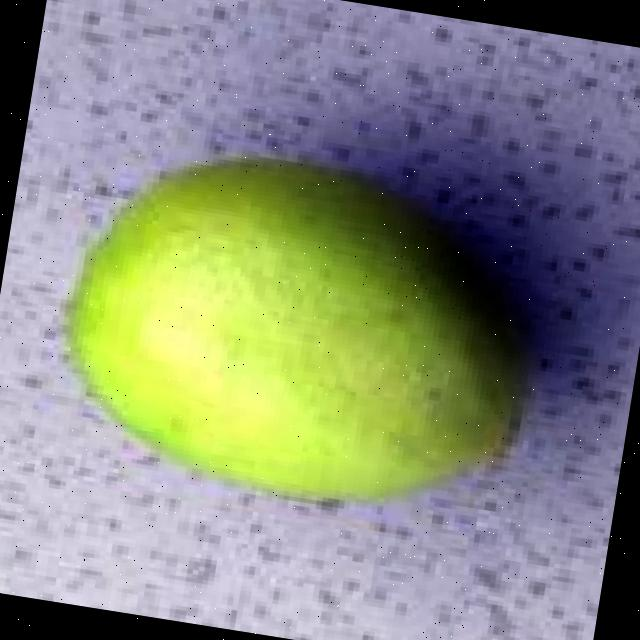Good_Lime-10-21-days: (64, 155, 532, 505)
